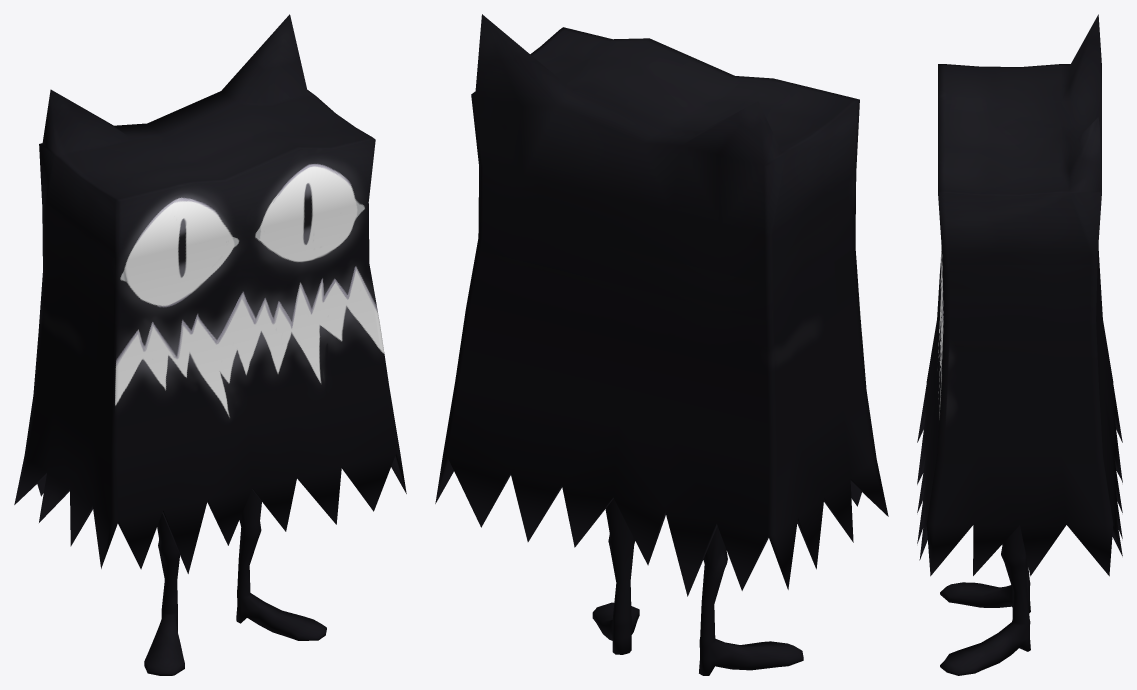
Rendered from monster2_1 1.fbx.
3 views of the same model, side by side, from view 1: azimuth 30°, elevation 25°; view 2: azimuth 150°, elevation 25°; view 3: azimuth 270°, elevation 25° (orthographic). The views are drawn at different scales.
Parts seen in each view (by area): view 1: Object001; view 2: Object001; view 3: Object001.
Boxes of the visible parts, x1=… form: Object001: x1=14, y1=14, x2=406, y2=675; Object001: x1=435, y1=14, x2=888, y2=675; Object001: x1=917, y1=14, x2=1122, y2=675.
Size of the model in its own units: 38.42 by 67.08 by 21.76.
1 material, 1 textured.
